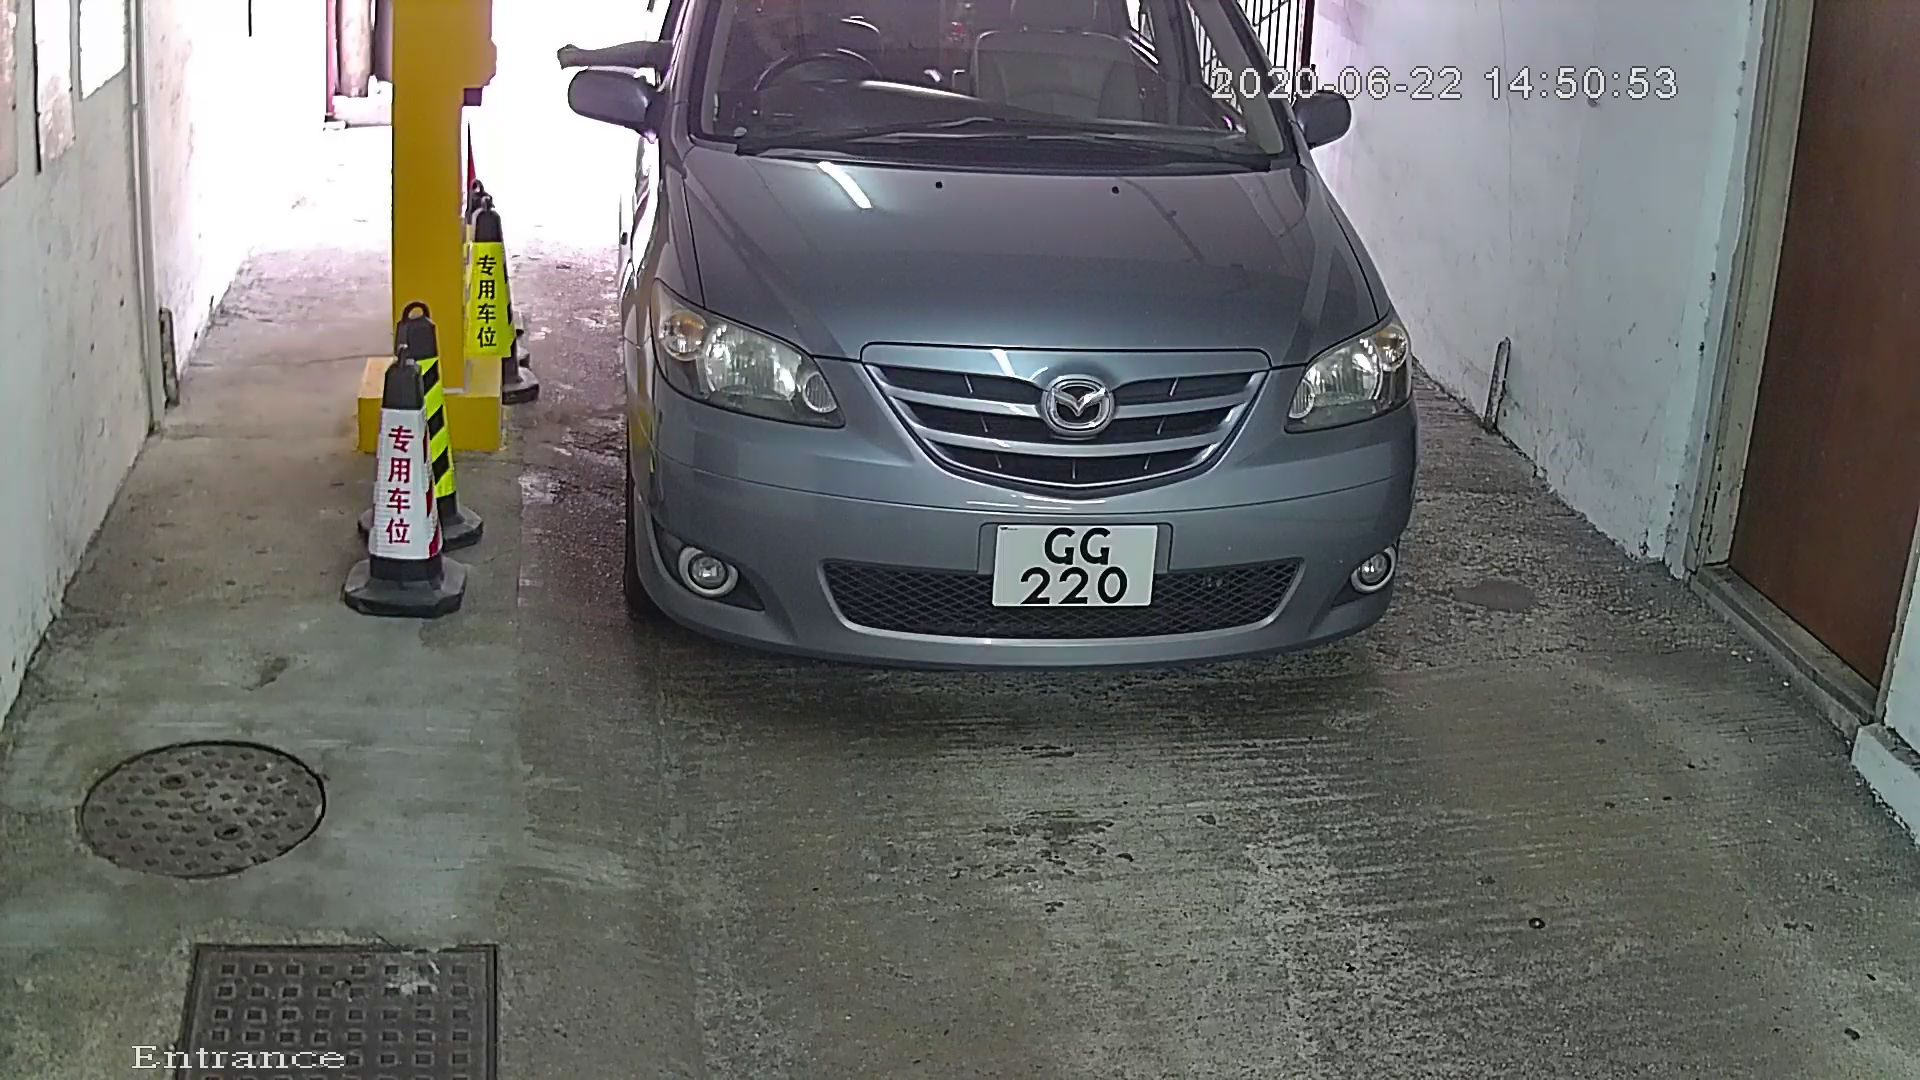privatecar: (568, 3, 1458, 731)
